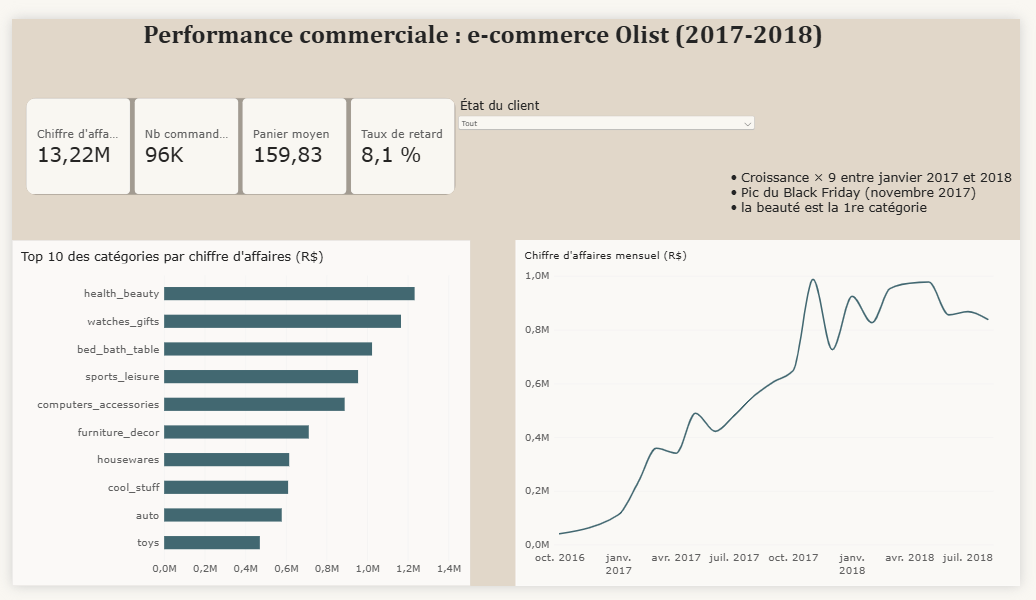

This screenshot's page, from the dashboard's own definition file:
{"tool":"powerbi","page":{"name":"Performance commerciale ","canvas":[1920,1080],"ordinal":0},"visuals":[{"type":"cardVisual","fields":{"Data":["commandes.Chiffre d'affaires","commandes.Nb commandes","commandes.Panier moyen","commandes.Taux de retard"]},"box":[26.8,150.3,819.2,185.2],"z":1},{"type":"lineChart","title":"Chiffre d''affaires mensuel (R$)","fields":{"Category":["ventes.mois"],"Y":["commandes.Chiffre d'affaires"]},"box":[959.2,422,961.2,658.7],"z":2},{"type":"clusteredBarChart","title":"Top 10 des catégories par chiffre d''affaires (R$)","fields":{"Category":["ventes.categorie"],"Y":["commandes.Chiffre d'affaires"]},"box":[0,422,872.7,658.7],"z":3},{"type":"slicer","fields":{"Values":["commandes.etat_client"]},"box":[846,150.3,574.3,185.2],"z":4},{"type":"textbox","box":[0,248,574,175],"z":5},{"type":"textbox","box":[249.1,0,1333.8,86.4],"z":6},{"type":"textbox","box":[1352.3,286.1,568.1,150.3],"z":7}]}

Visuals, with their boxes in screenshot pixels (x1, y1, x2, y2), scaled from the page's 1920x1080 canvas onto the 1036x600 screenshot:
cardVisual - commandes.Chiffre d'affaires x commandes.Nb commandes: bbox(14, 84, 456, 186)
"Chiffre d''affaires mensuel (R$)" lineChart: bbox(518, 234, 1035, 599)
"Top 10 des catégories par chiffre d''affaires (R$)" clusteredBarChart: bbox(0, 234, 471, 599)
slicer - commandes.etat_client: bbox(456, 84, 766, 186)
textbox: bbox(0, 138, 310, 235)
textbox: bbox(134, 0, 854, 48)
textbox: bbox(730, 159, 1035, 242)
